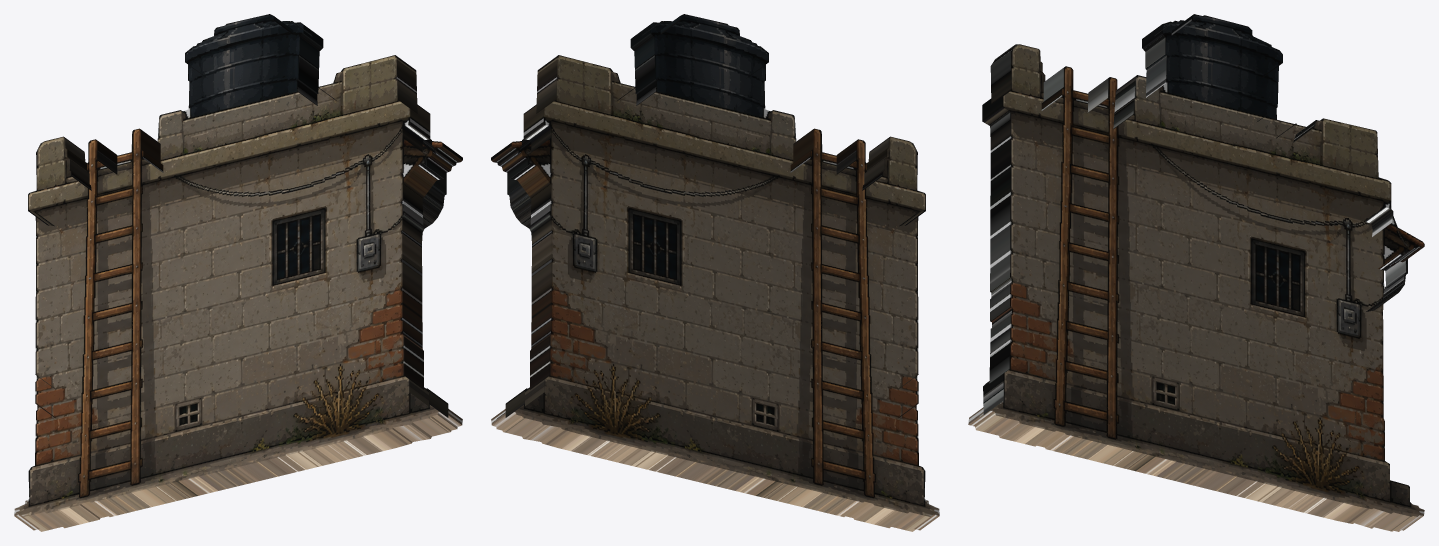
File: house_07_front.glb
3 renders of one model, left to right at view 1: azimuth 30°, elevation 25°; view 2: azimuth 150°, elevation 25°; view 3: azimuth 330°, elevation 25°, orthographic.
Parts seen in each view (by area): view 1: world; view 2: world; view 3: world.
Part boxes in pixels (x1,y1,x2,y2): world: [14, 14, 462, 531]; world: [491, 14, 939, 531]; world: [968, 14, 1424, 531].
Bounding box in the file's own units: 6.83 × 6.79 × 0.544.
1 material, 1 textured.
